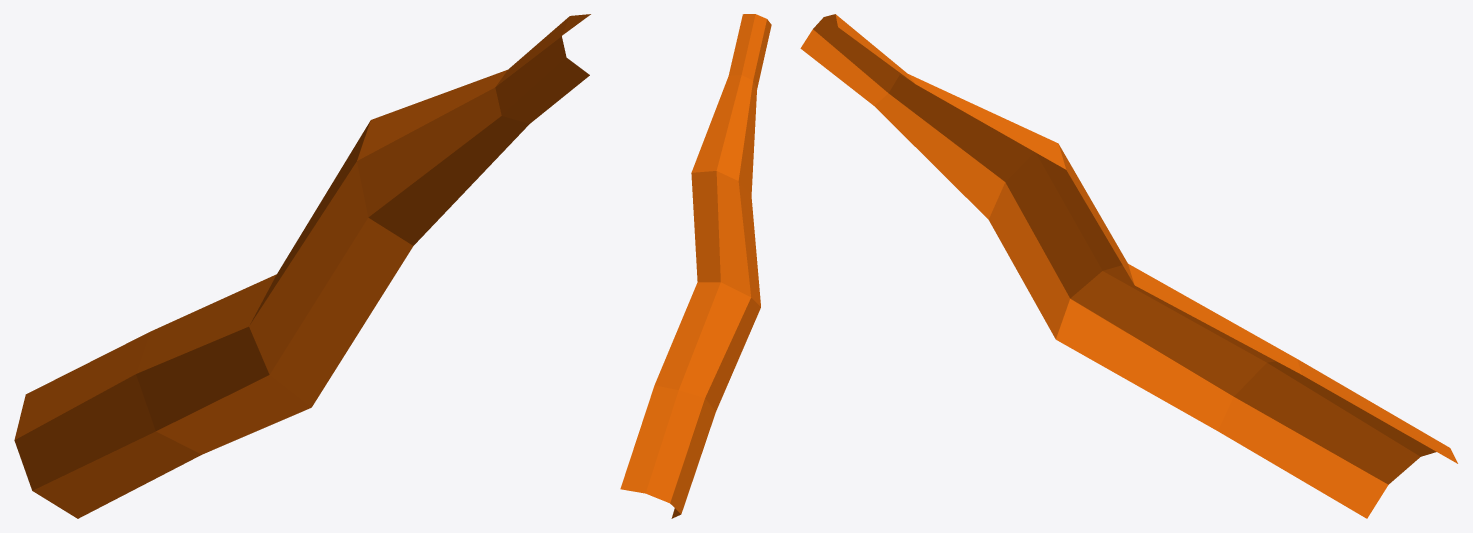
File: Stick.glb
3 views of the same model, side by side, from view 1: azimuth 30°, elevation 25°; view 2: azimuth 150°, elevation 25°; view 3: azimuth 270°, elevation 25° (orthographic). The views are drawn at different scales.
Visible parts, largest first — view 1: Stick.001; view 2: Stick.001; view 3: Stick.001.
Boxes of the visible parts, bbox=[...] form: Stick.001: bbox=[14, 14, 590, 518]; Stick.001: bbox=[620, 14, 771, 518]; Stick.001: bbox=[800, 14, 1457, 518].
Bounding box in the file's own units: 1.26 × 3.84 × 4.02.
1 material, 1 textured.
